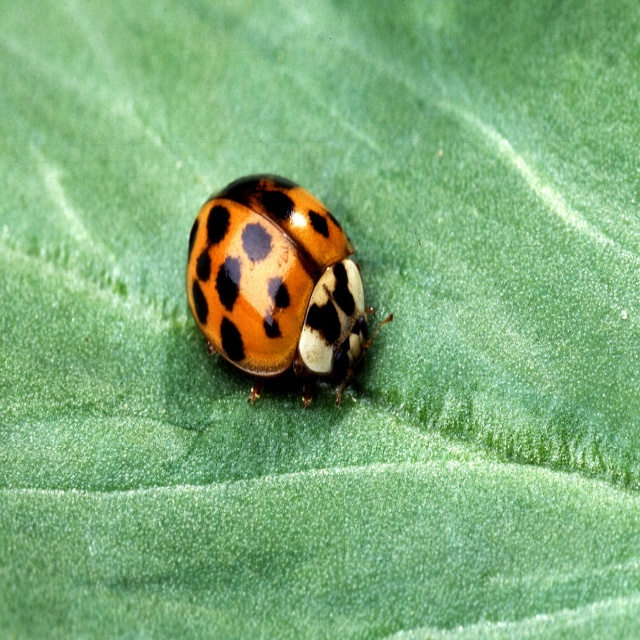Ladybug: (184, 171, 394, 409)
